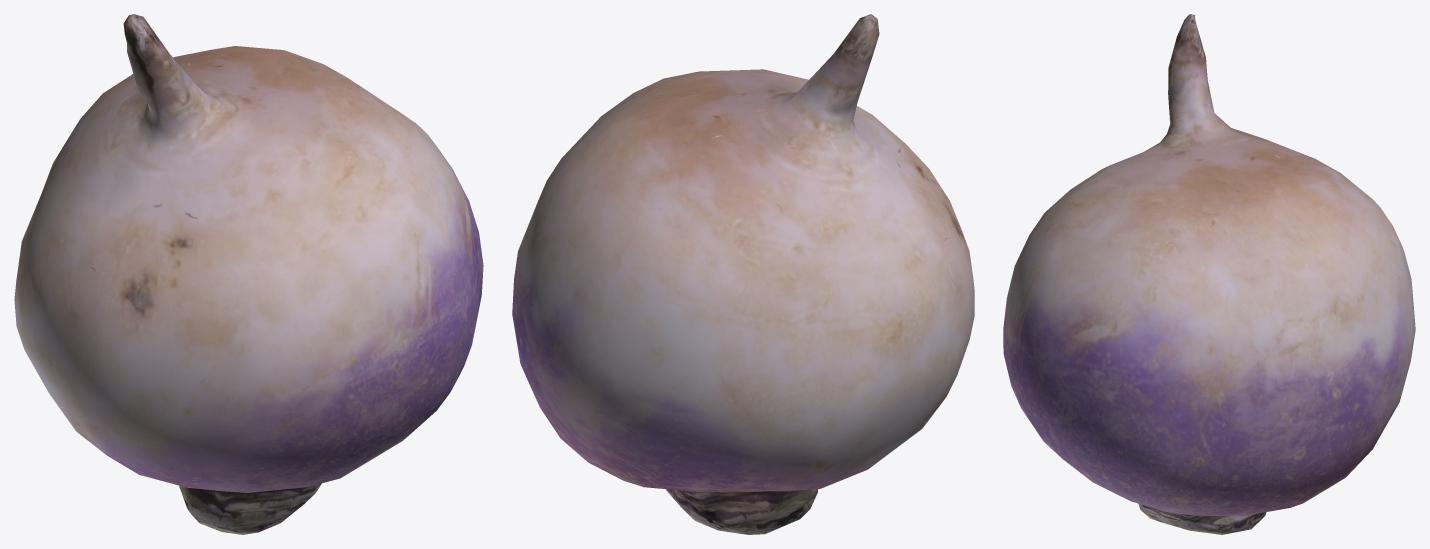
The model's file is 05_radish.glb.
The picture shows the model from 3 angles, left to right: view 1: azimuth 30°, elevation 25°; view 2: azimuth 150°, elevation 25°; view 3: azimuth 270°, elevation 25°; orthographic projection. The views are drawn at different scales.
Visible parts, largest first — view 1: 05_turnip; view 2: 05_turnip; view 3: 05_turnip.
Boxes of the visible parts, x1,y1,x2,y2 form: 05_turnip: (14,14,483,534); 05_turnip: (512,14,974,534); 05_turnip: (1003,14,1415,534).
Bounding box in the file's own units: 0.8864 × 1.13 × 0.9053.
1 material, 1 textured.
